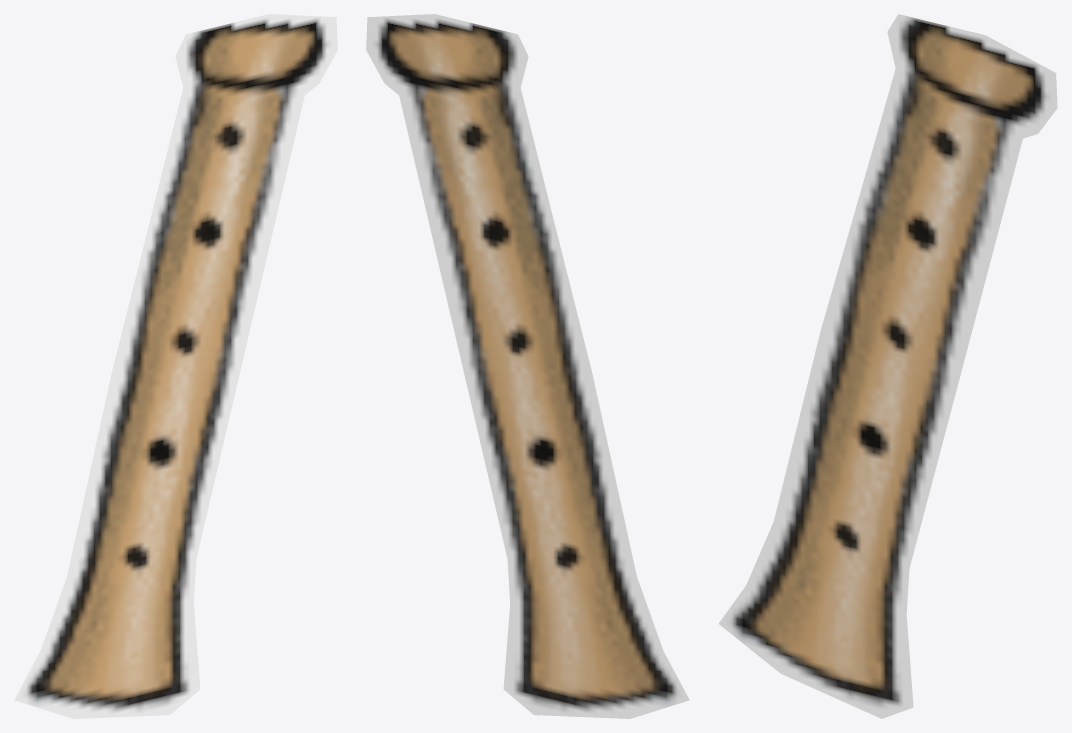
3 renders of one model, left to right at view 1: azimuth 30°, elevation 25°; view 2: azimuth 150°, elevation 25°; view 3: azimuth 330°, elevation 25°, orthographic. The views are drawn at different scales.
Parts seen in each view (by area): view 1: Plane; view 2: Plane; view 3: Plane.
Part boxes in pixels (x1,y1,x2,y2): Plane: (14, 14, 337, 718); Plane: (366, 14, 689, 718); Plane: (718, 14, 1057, 718).
Size of the model in its own units: 1.71 by 3.42 by 0.
1 material, 1 textured.
